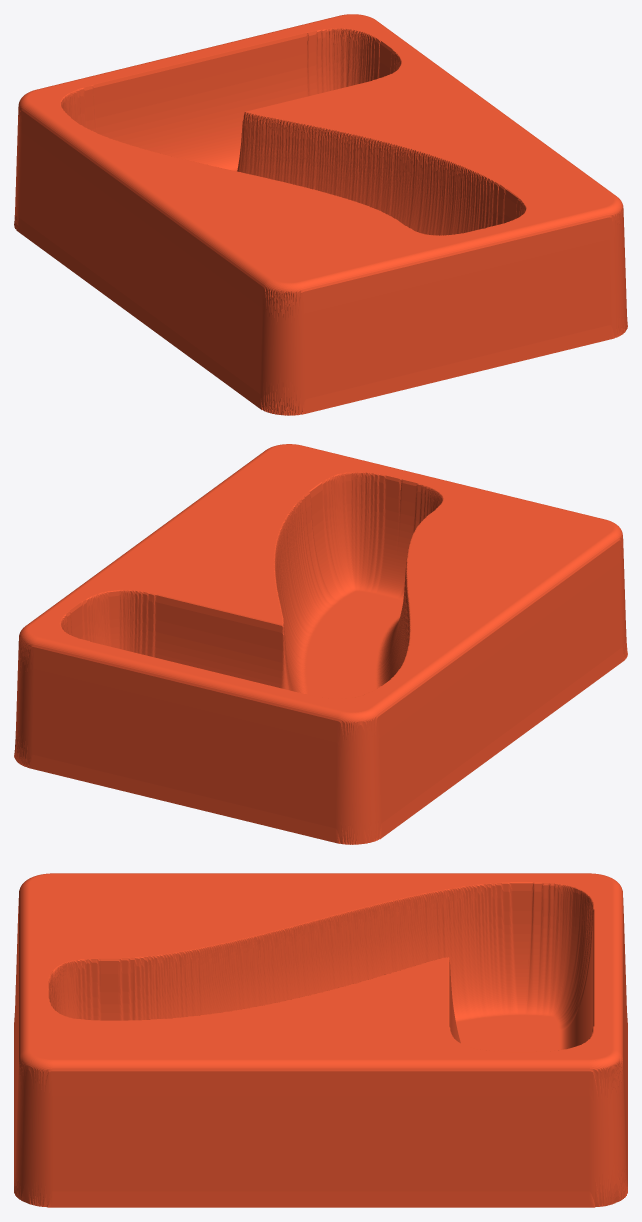
The model's file is mold.glb.
The picture shows the model from 3 angles, top to bottom: view 1: azimuth 30°, elevation 25°; view 2: azimuth 150°, elevation 25°; view 3: azimuth 270°, elevation 25°; orthographic projection. The views are drawn at different scales.
Parts seen in each view (by area): view 1: geometry_0; view 2: geometry_0; view 3: geometry_0.
Boxes of the visible parts, x1,y1,x2,y2 form: geometry_0: (14, 14, 627, 415); geometry_0: (14, 444, 627, 844); geometry_0: (14, 873, 627, 1207).
Bounding box in the file's own units: 0.1096 × 0.0365 × 0.1435.
